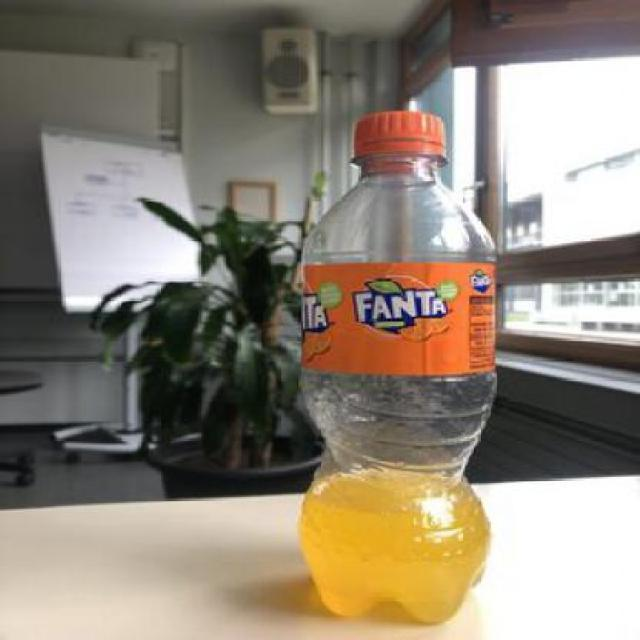Fanta: (293, 108, 502, 622)
